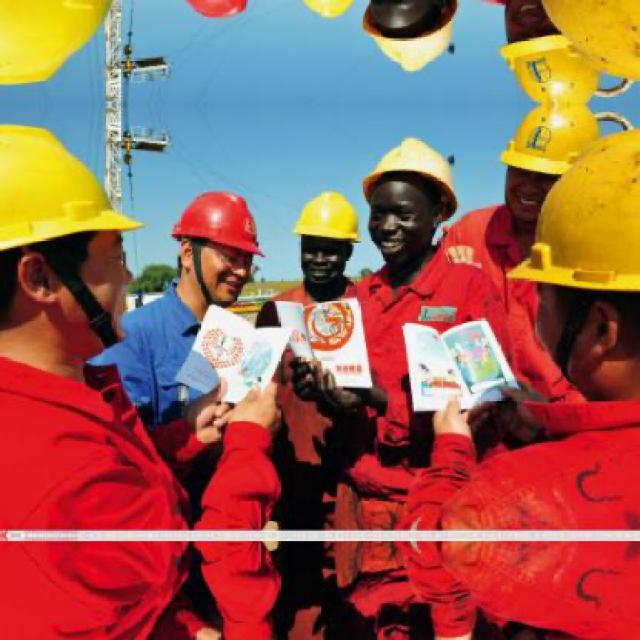helmet: (511, 124, 637, 413), (1, 126, 134, 342), (489, 105, 597, 232), (351, 135, 455, 263), (168, 182, 263, 308), (489, 0, 598, 103), (1, 0, 136, 82), (511, 0, 638, 83), (351, 0, 457, 72), (289, 185, 363, 283), (168, 0, 264, 26), (289, 0, 365, 23)
